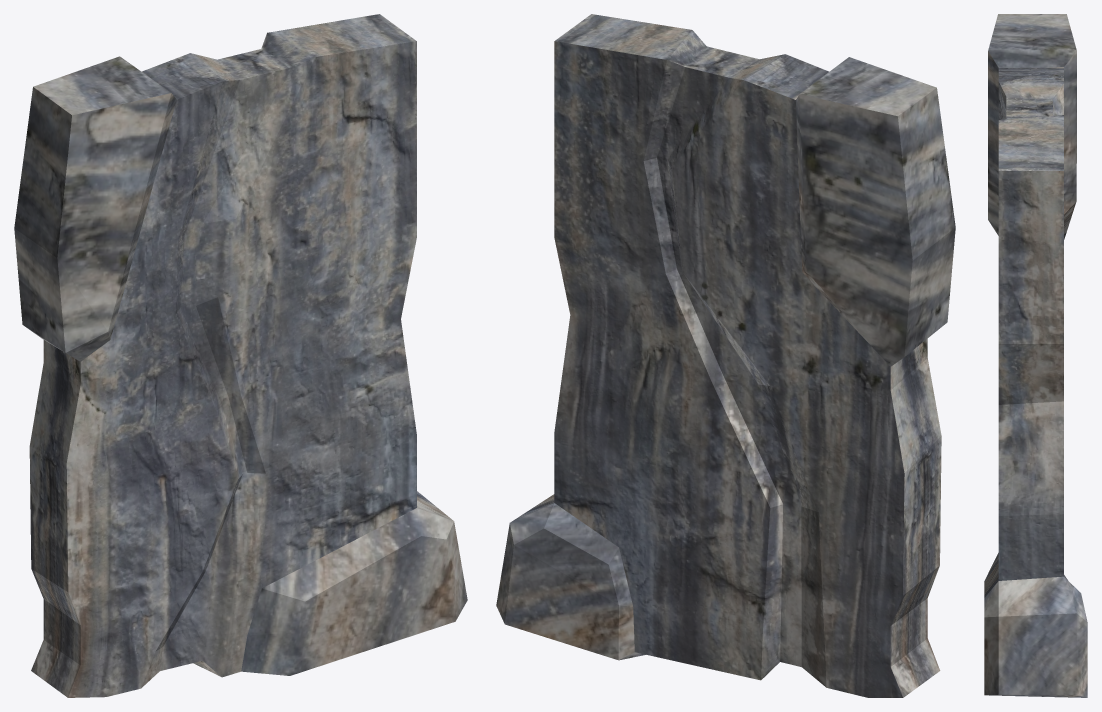
File: RockWall_5.fbx
3 views of the same model, side by side, from view 1: azimuth 30°, elevation 25°; view 2: azimuth 150°, elevation 25°; view 3: azimuth 270°, elevation 25° (orthographic). The views are drawn at different scales.
Parts seen in each view (by area): view 1: pCube2; view 2: pCube2; view 3: pCube2.
Boxes of the visible parts, bbox=[...] form: pCube2: bbox=[14, 14, 467, 697]; pCube2: bbox=[496, 14, 955, 697]; pCube2: bbox=[984, 14, 1087, 697].
Bounding box in the file's own units: 10.08 × 14.28 × 2.48.
